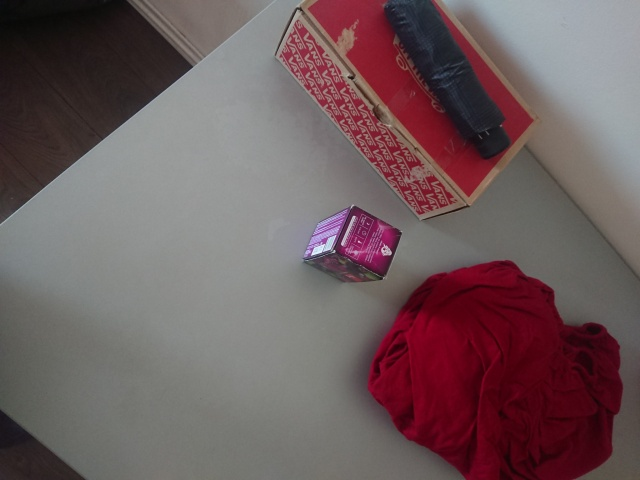Franck Black Currant Tea 60g: (300, 201, 405, 286)
